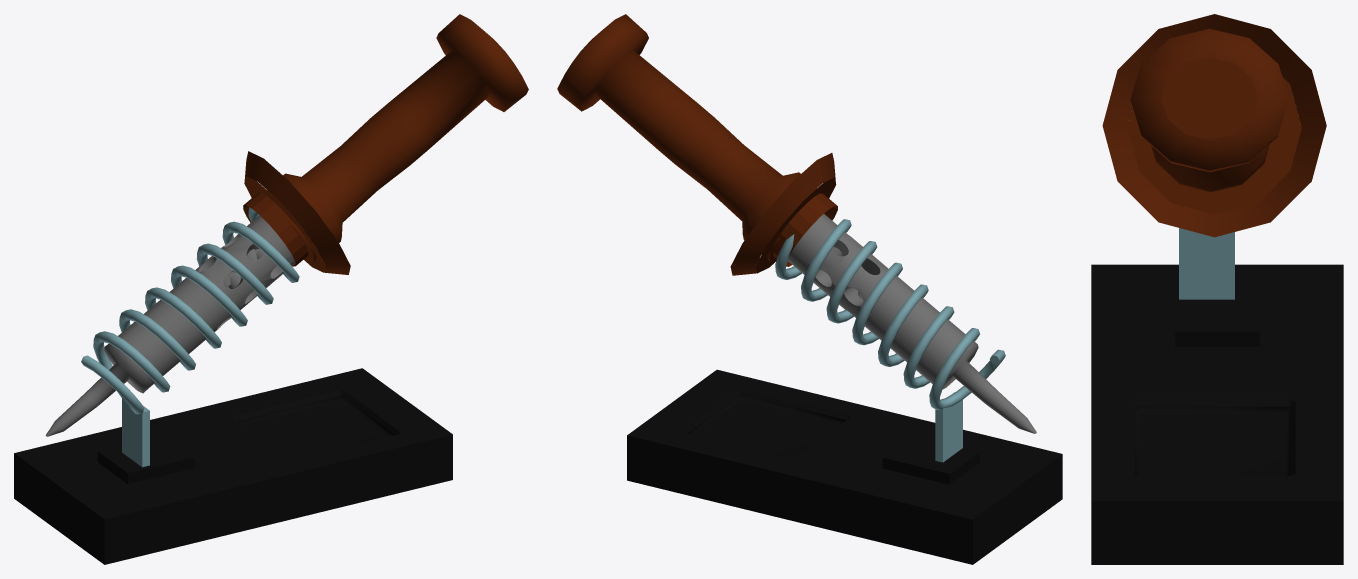
File: weldlinggun.FBX
3 views of the same model, side by side, from view 1: azimuth 30°, elevation 25°; view 2: azimuth 150°, elevation 25°; view 3: azimuth 270°, elevation 25° (orthographic). The views are drawn at different scales.
Parts seen in each view (by area): view 1: Box001, ChamferCyl001, ChamferCyl002, Spring001, ChamferCyl003; view 2: Box001, ChamferCyl001, ChamferCyl002, Spring001, ChamferCyl003; view 3: Box001, ChamferCyl001, ChamferCyl003, Spring001.
Part boxes in pixels (left/top/right/bottom): Box001: left=14, top=368, right=452, bottom=564; ChamferCyl001: left=267, top=14, right=528, bottom=262; ChamferCyl002: left=45, top=215, right=295, bottom=436; Spring001: left=81, top=207, right=299, bottom=467; ChamferCyl003: left=243, top=151, right=350, bottom=274; Box001: left=627, top=369, right=1062, bottom=564; ChamferCyl001: left=557, top=14, right=816, bottom=261; ChamferCyl002: left=788, top=214, right=1036, bottom=433; Spring001: left=775, top=219, right=1005, bottom=462; ChamferCyl003: left=730, top=153, right=837, bottom=275; Box001: left=1091, top=264, right=1343, bottom=564; ChamferCyl001: left=1130, top=28, right=1288, bottom=192; ChamferCyl003: left=1102, top=14, right=1326, bottom=237; Spring001: left=1179, top=228, right=1234, bottom=299.
Size of the model in its own units: 135 by 114 by 45.
